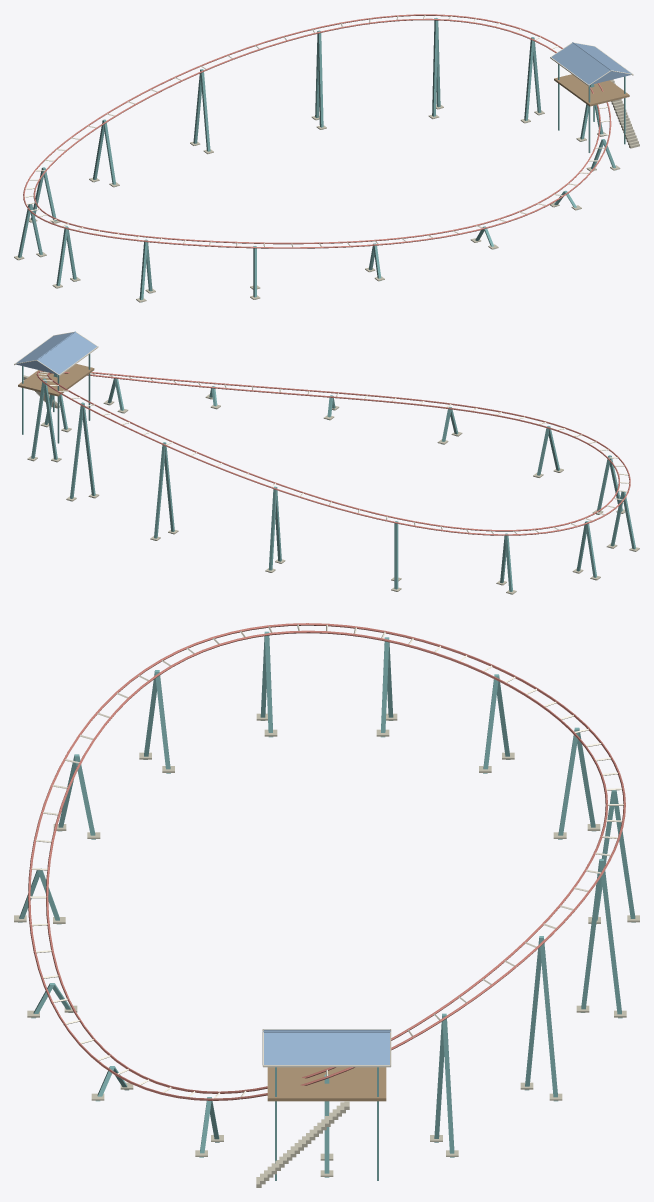
The model's file is decorative-coaster.glb.
The picture shows the model from 3 angles, top to bottom: view 1: azimuth 30°, elevation 25°; view 2: azimuth 150°, elevation 25°; view 3: azimuth 270°, elevation 25°; orthographic projection. The views are drawn at different scales.
Bounding box in the file's own units: 132 × 21.11 × 73.7.
